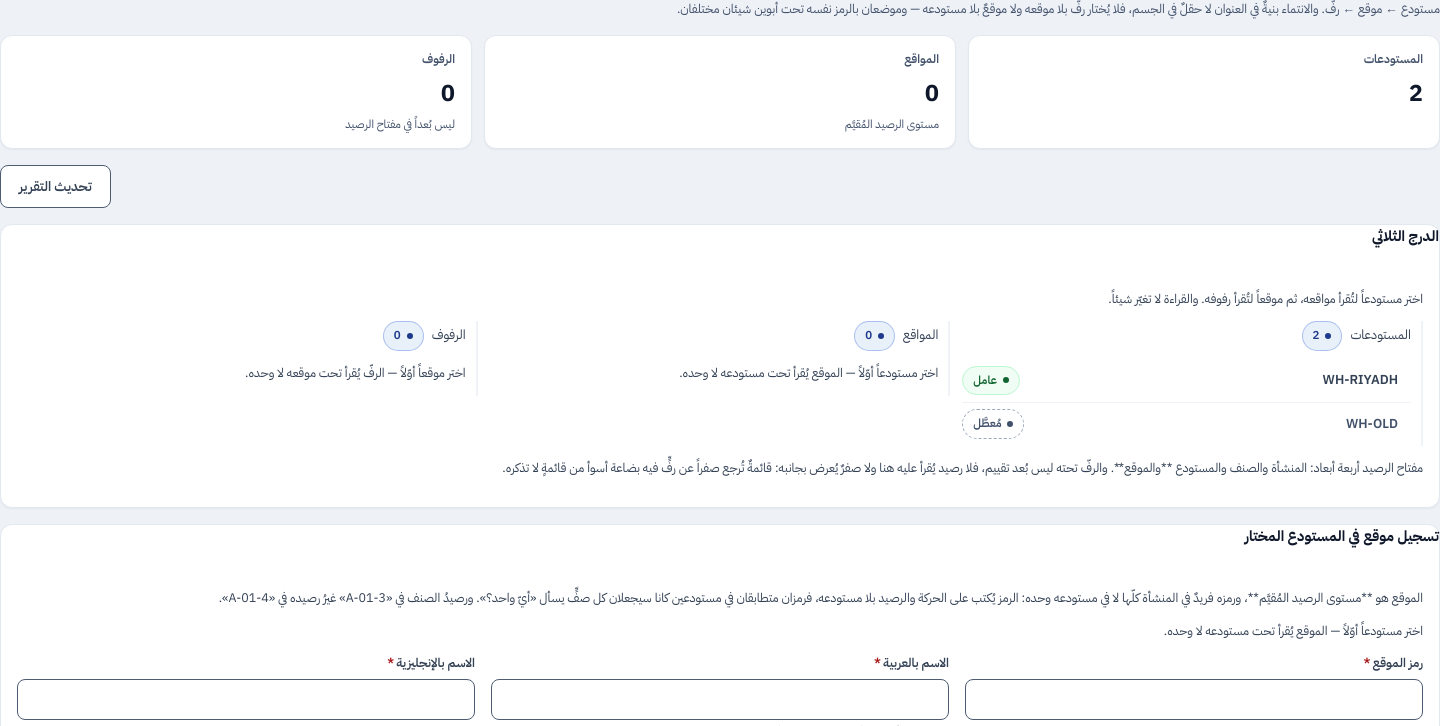
it: التعطيل — الحكم يُقال قبل الضغط، ويختلف بالمستوى › حكمُ الرفّ غيرُ حكم الموقع: لا فحص رصيدٍ على الرفّ
Expected: the element with test id "placement-tree" is shown, [0,224,1439,508]
Click the button with test id "place-pick" showing "WH-RIYADH" at (1360, 379), box [1028,363,1411,398]
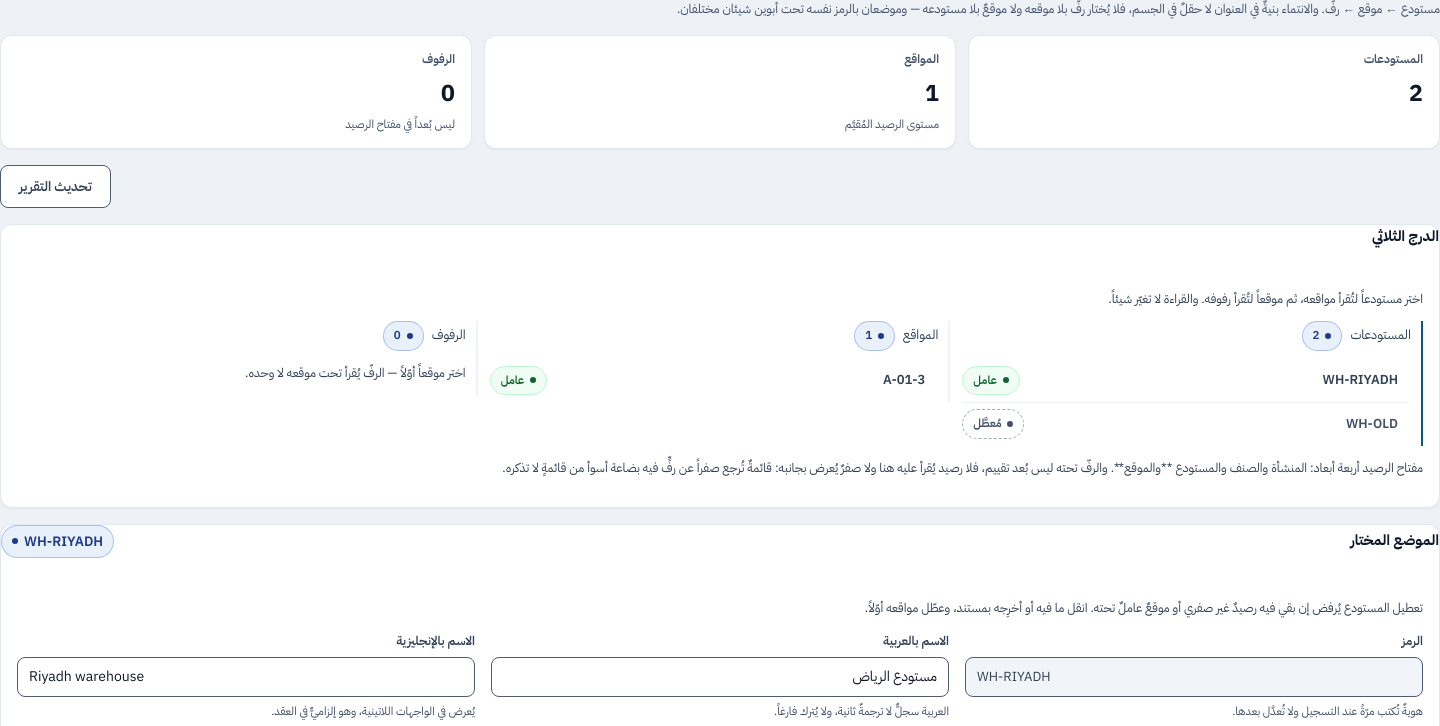
Expected: the element with test id "placement-chosen" shows "WH-RIYADH", [24,530,103,552]
Click the button with test id "place-pick" showing "A-01-3" at (904, 379), box [555,363,938,398]
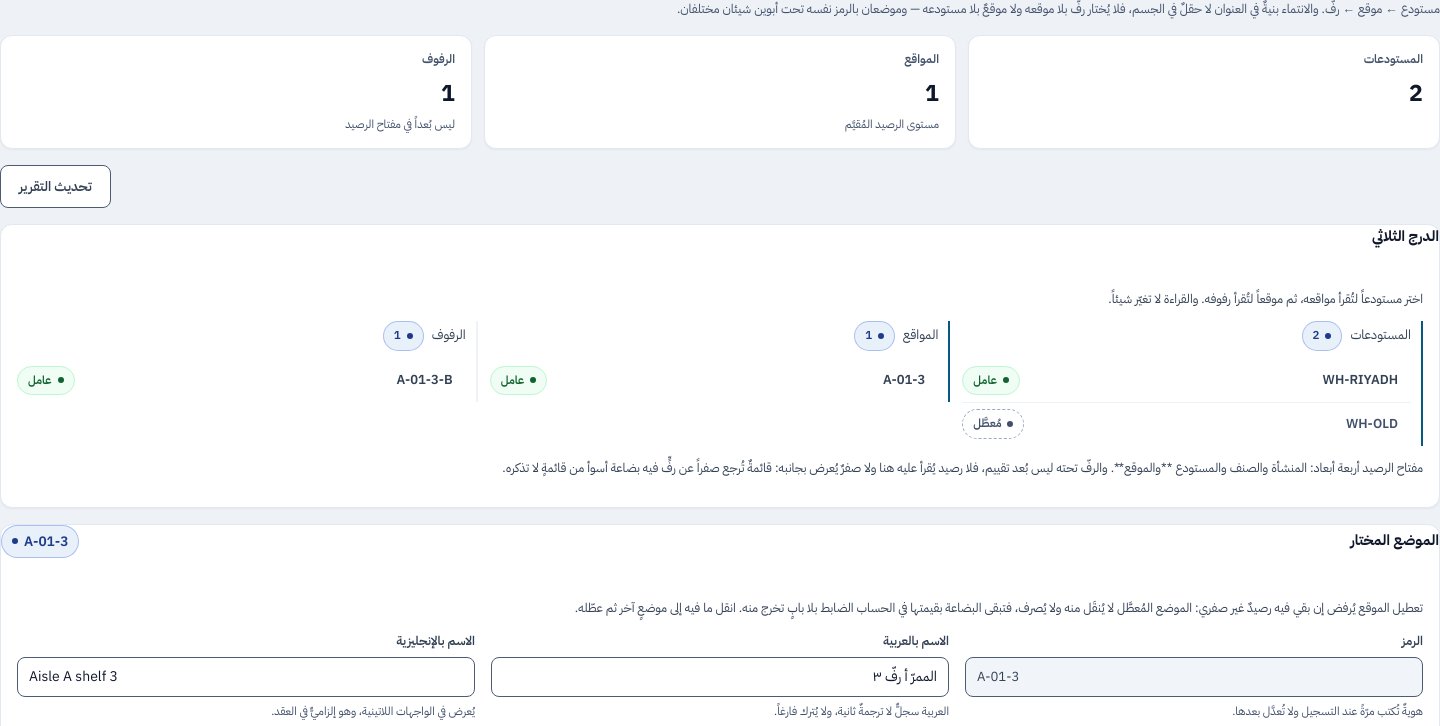
Expected: the element with test id "placement-chosen" shows "يُرفض", [575,598,1423,617]
Expected: the element with test id "placement-chosen" shows "A-01-3", [24,530,68,552]
Click the button with test id "place-pick" showing "A-01-3-B" at (425, 379), box [83,363,466,398]
(page scrolled)
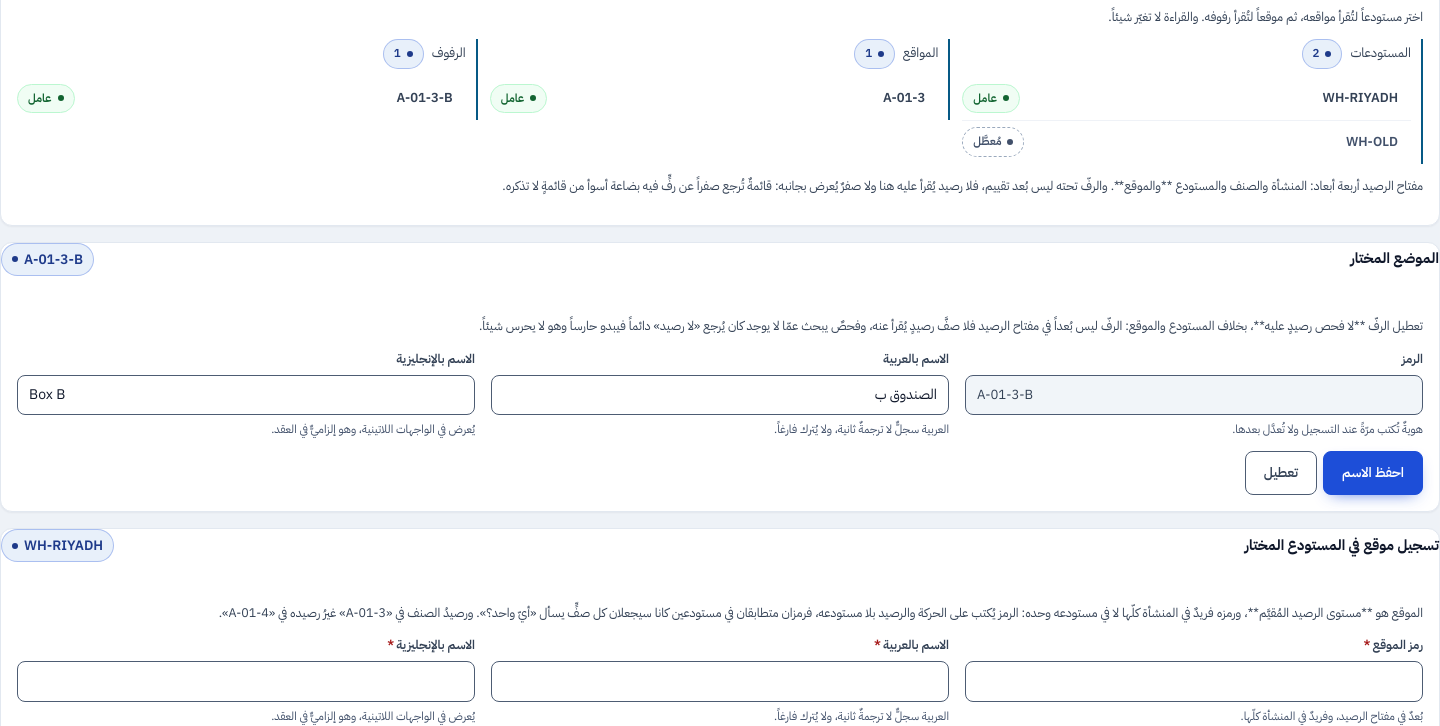
Expected: the element with test id "placement-chosen" shows "A-01-3-B", [24,248,83,270]
Expected: the element with test id "placement-chosen" shows "لا فحص رصيد", [479,316,1423,335]
